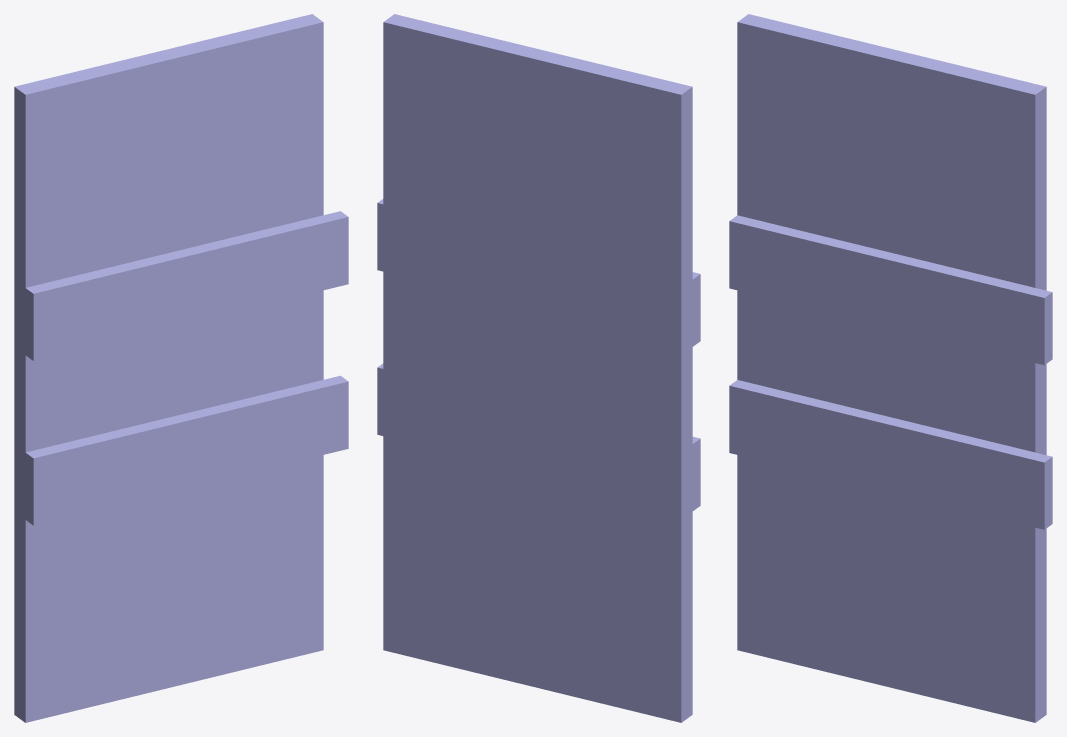
The model's file is puerta.fbx.
The picture shows the model from 3 angles, left to right: view 1: azimuth 30°, elevation 25°; view 2: azimuth 150°, elevation 25°; view 3: azimuth 330°, elevation 25°; orthographic projection.
Parts seen in each view (by area): view 1: Box001, Box003, Box002; view 2: Box001, Box003, Box002; view 3: Box001, Box002, Box003.
Part boxes in pixels (box(x1,y1,x2,y2)): Box001: box(14, 14, 323, 722); Box003: box(25, 211, 348, 360); Box002: box(25, 375, 348, 525); Box001: box(383, 14, 692, 722); Box003: box(377, 199, 700, 346); Box002: box(377, 363, 700, 510); Box001: box(737, 14, 1046, 722); Box002: box(729, 380, 1052, 529); Box003: box(729, 215, 1052, 365).
Size of the model in its own units: 104 by 198 by 10.94.
